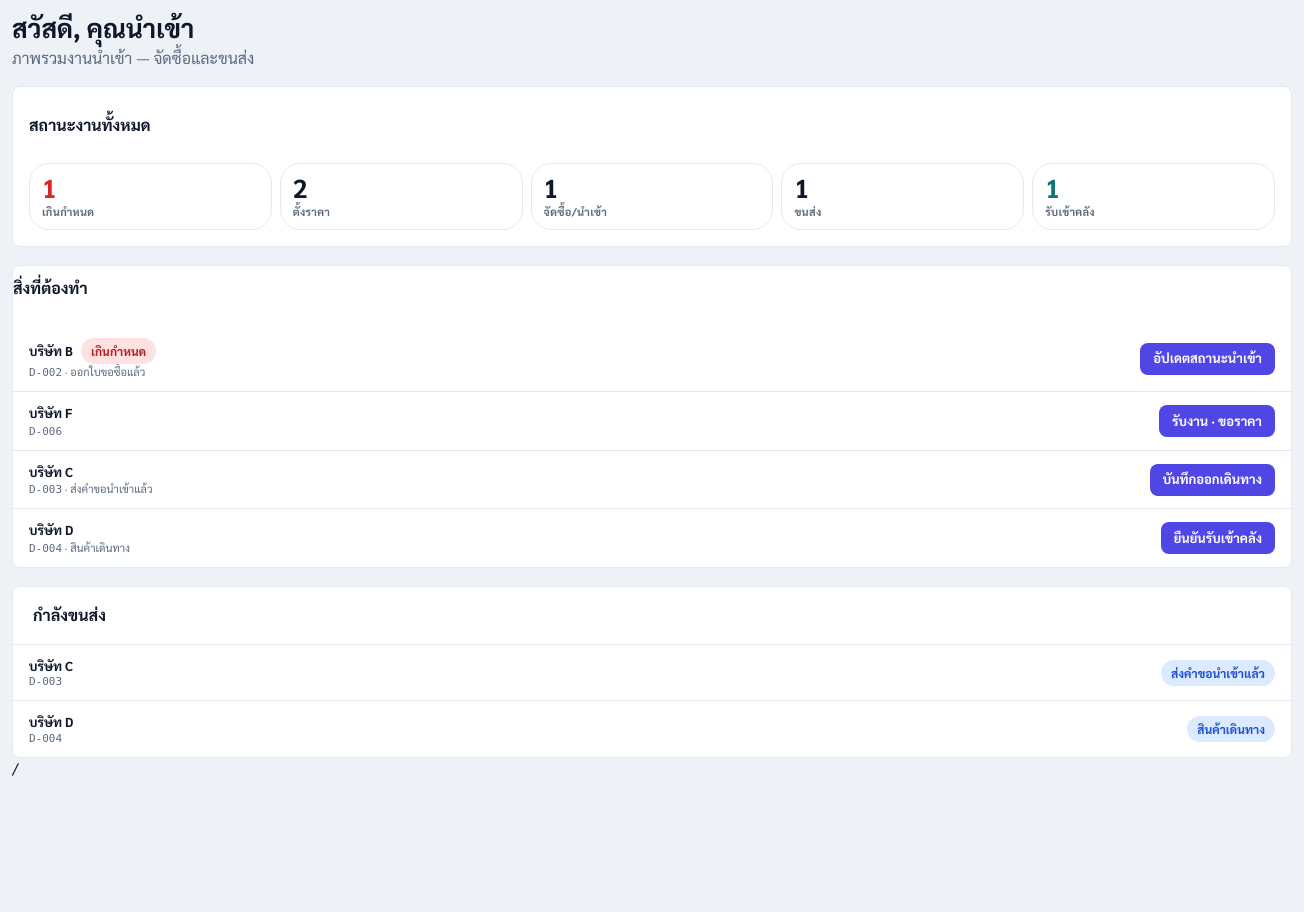
Scenario: ImportOverview deal links › sends the รับงาน · ขอราคา CTA to the SUBMITTED pricing request detail page
The width and height of the screenshot is (1304, 912).
What coordinates should you click on to do the following:
click the button "รับงาน · ขอราคา"
I would click on:
 (1217, 421)
Its box is [1159, 405, 1275, 437].
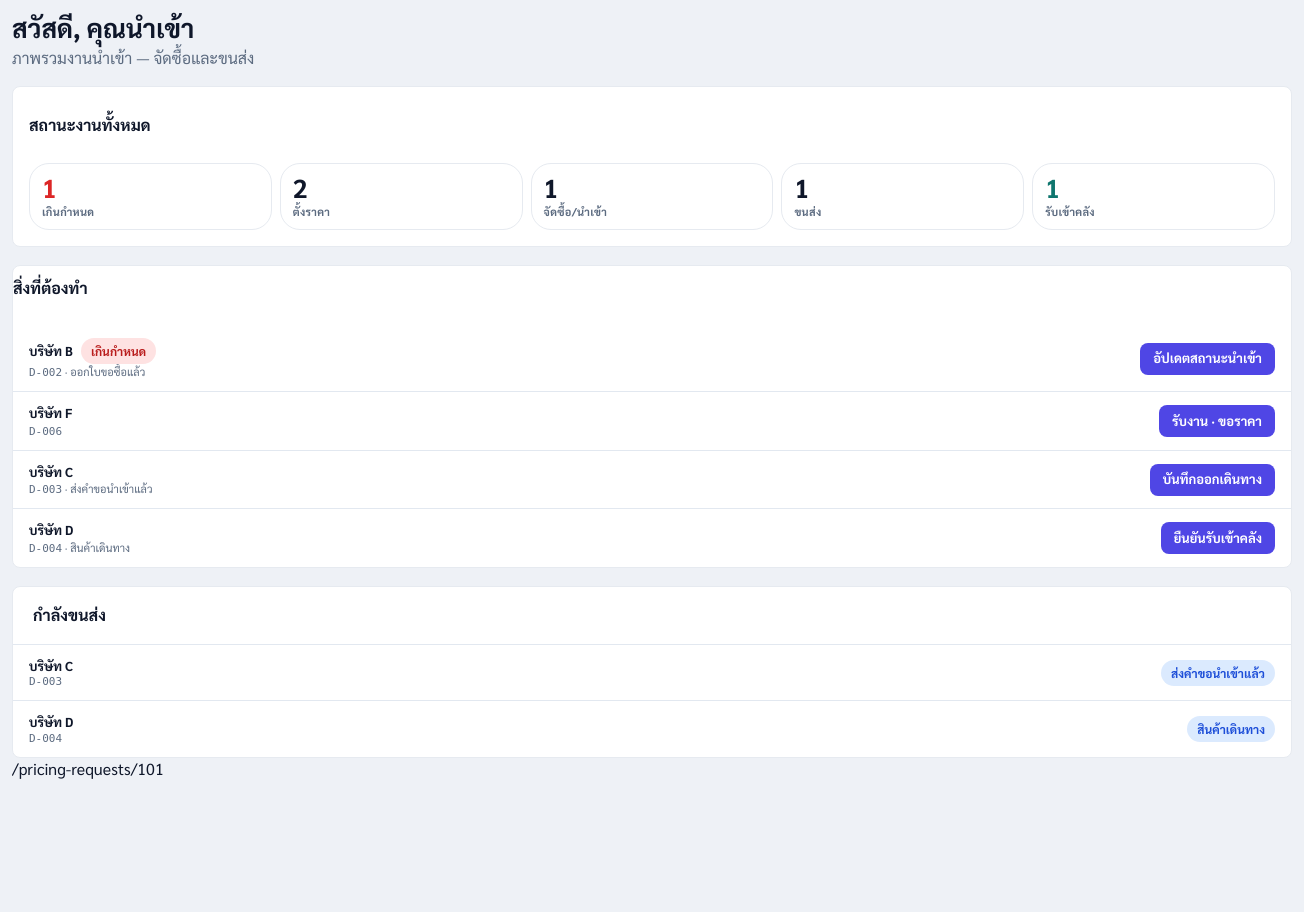
Check: the text with test id "location" reads "/pricing-requests/101", box [12, 758, 164, 779]
